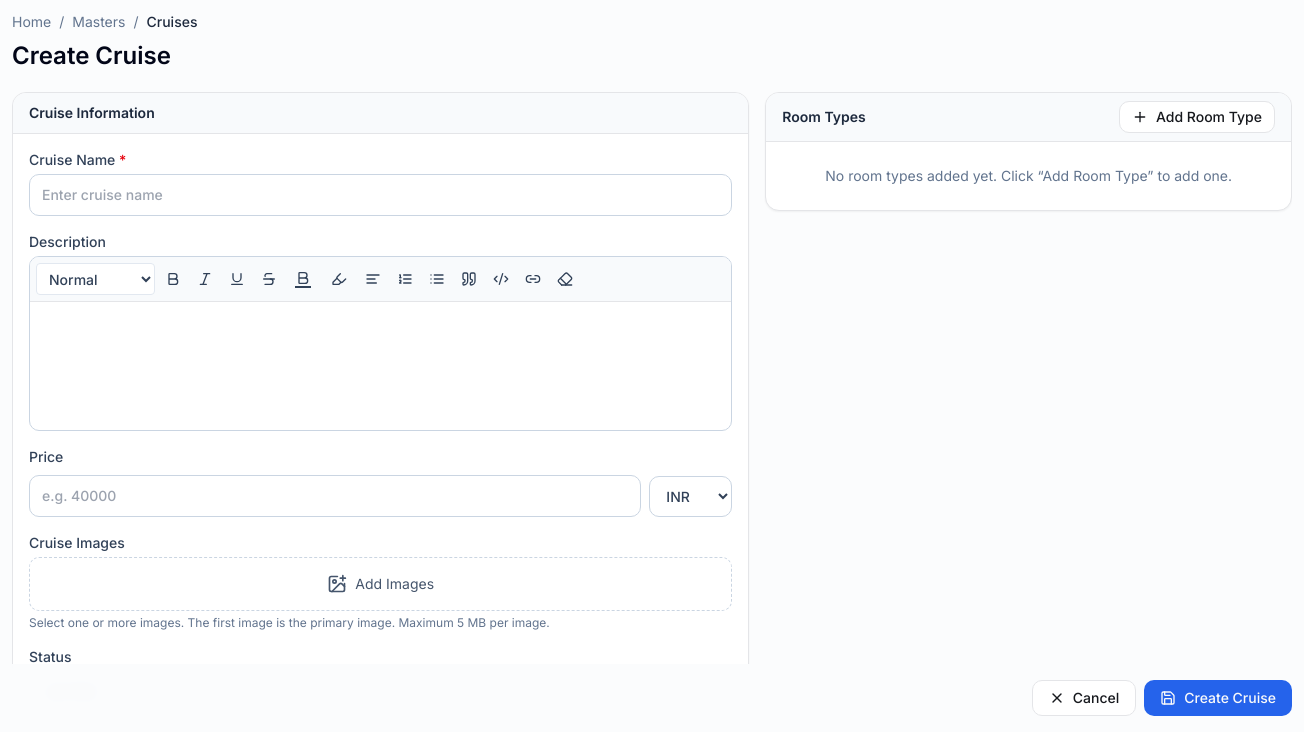
Test: Phase 13C master pages › adds and removes cruise room type rows
Expected: the text "No room types added yet. Click “Add Room Type” to add one." is shown, [825,167,1232,184]
Click the button "Add Room Type": click(1197, 117) [1119,101,1275,133]
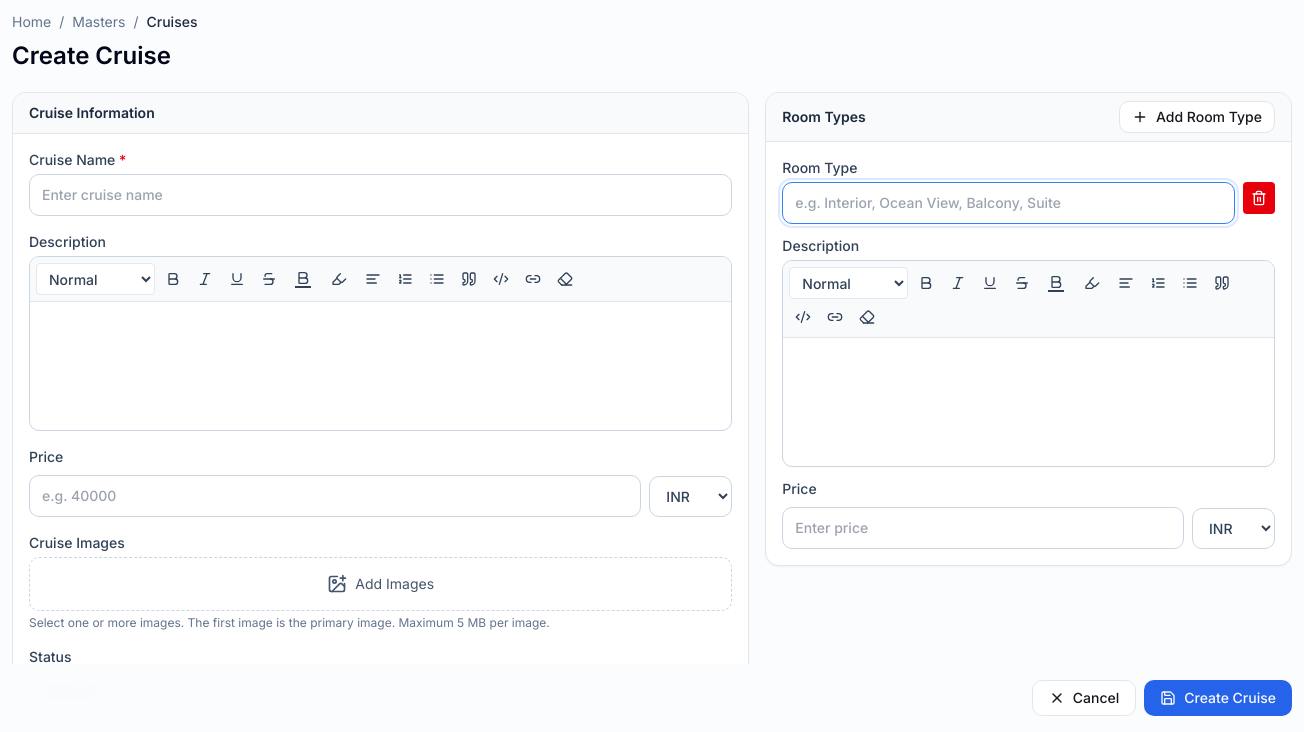
Expected: the field named "Room type 1 name" is shown, [782,182,1235,224]
Expected: the number field named "Room type 1 price" is shown, [782,507,1184,549]
Click the button named "remove room type 1": click(1259, 198) [1243,182,1275,214]
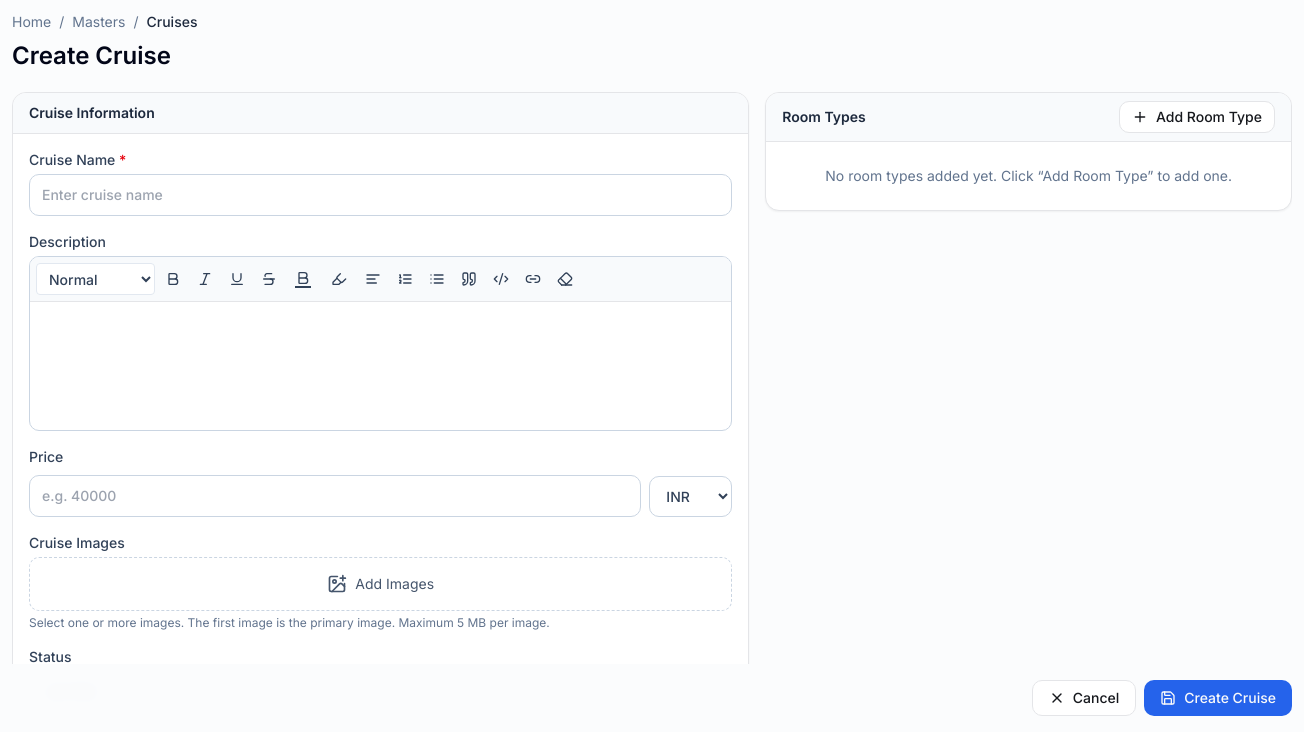
Expected: the text "No room types added yet. Click “Add Room Type” to add one." is shown, [825,167,1232,184]
